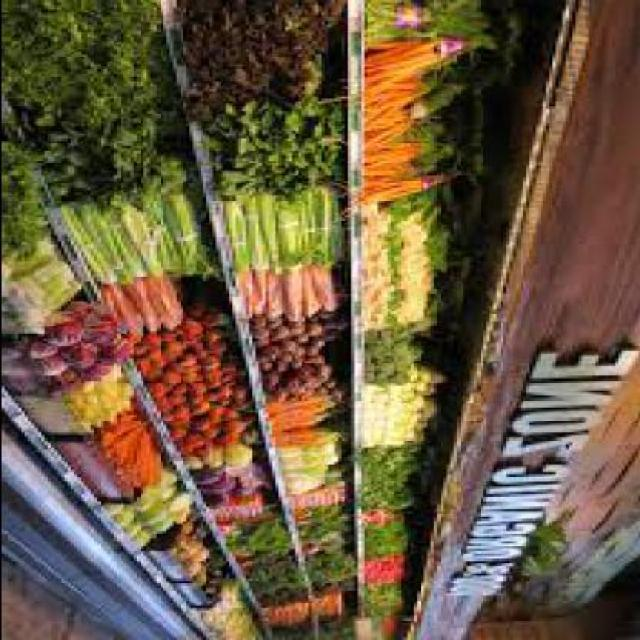BIODEGRADABLE: (7, 5, 168, 134), (135, 307, 254, 462), (30, 118, 192, 211), (184, 2, 270, 108), (393, 193, 452, 332), (254, 322, 349, 404), (271, 2, 343, 108), (370, 45, 515, 97), (369, 2, 498, 58), (165, 161, 221, 284), (366, 372, 446, 452), (274, 105, 340, 200), (13, 237, 82, 326), (63, 195, 125, 287), (96, 416, 172, 490), (218, 101, 274, 197), (366, 76, 459, 132), (132, 178, 182, 279), (3, 143, 49, 249), (370, 96, 465, 146), (73, 371, 145, 429), (369, 204, 400, 334), (108, 188, 148, 284), (281, 435, 339, 499), (200, 583, 265, 639), (303, 185, 346, 267), (370, 445, 422, 512), (363, 178, 479, 208), (190, 465, 268, 509), (271, 401, 343, 447), (373, 330, 429, 388), (274, 192, 314, 272), (370, 143, 468, 175), (174, 520, 220, 588), (228, 521, 287, 574), (247, 198, 284, 272), (224, 200, 261, 274), (251, 558, 303, 608), (106, 281, 152, 337), (192, 442, 260, 476), (277, 442, 343, 476), (128, 281, 168, 337), (313, 553, 359, 598), (148, 282, 188, 331), (283, 267, 314, 325), (291, 487, 349, 515), (221, 499, 267, 533), (369, 522, 406, 562), (300, 512, 349, 539), (91, 308, 122, 348), (102, 336, 142, 366), (76, 361, 119, 388), (49, 321, 86, 352), (372, 585, 406, 618), (66, 296, 102, 327), (369, 558, 406, 588), (152, 467, 182, 504), (271, 271, 291, 324), (36, 353, 73, 381), (134, 502, 172, 529), (29, 339, 66, 366), (66, 343, 100, 371), (277, 602, 311, 630), (317, 272, 340, 312), (52, 375, 86, 400), (366, 512, 406, 533), (316, 598, 347, 625), (168, 496, 194, 527), (245, 274, 260, 324), (258, 270, 273, 316), (144, 522, 178, 542), (306, 539, 343, 556), (136, 489, 158, 517), (307, 274, 319, 318), (115, 514, 138, 531), (132, 536, 152, 552), (109, 504, 125, 519)
